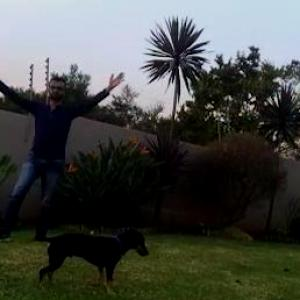takeoff: (0, 76, 117, 218)
